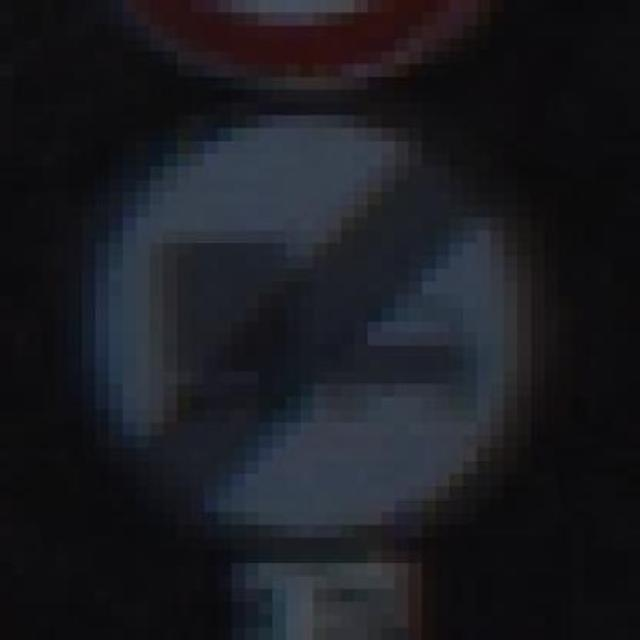Overtaking by trucks is prohibited: (27, 77, 613, 525)
